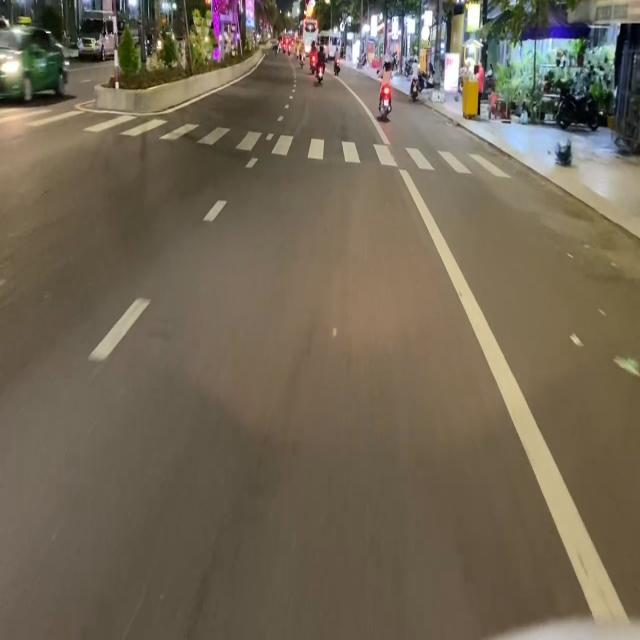walk-crossing: (98, 118, 524, 176)
